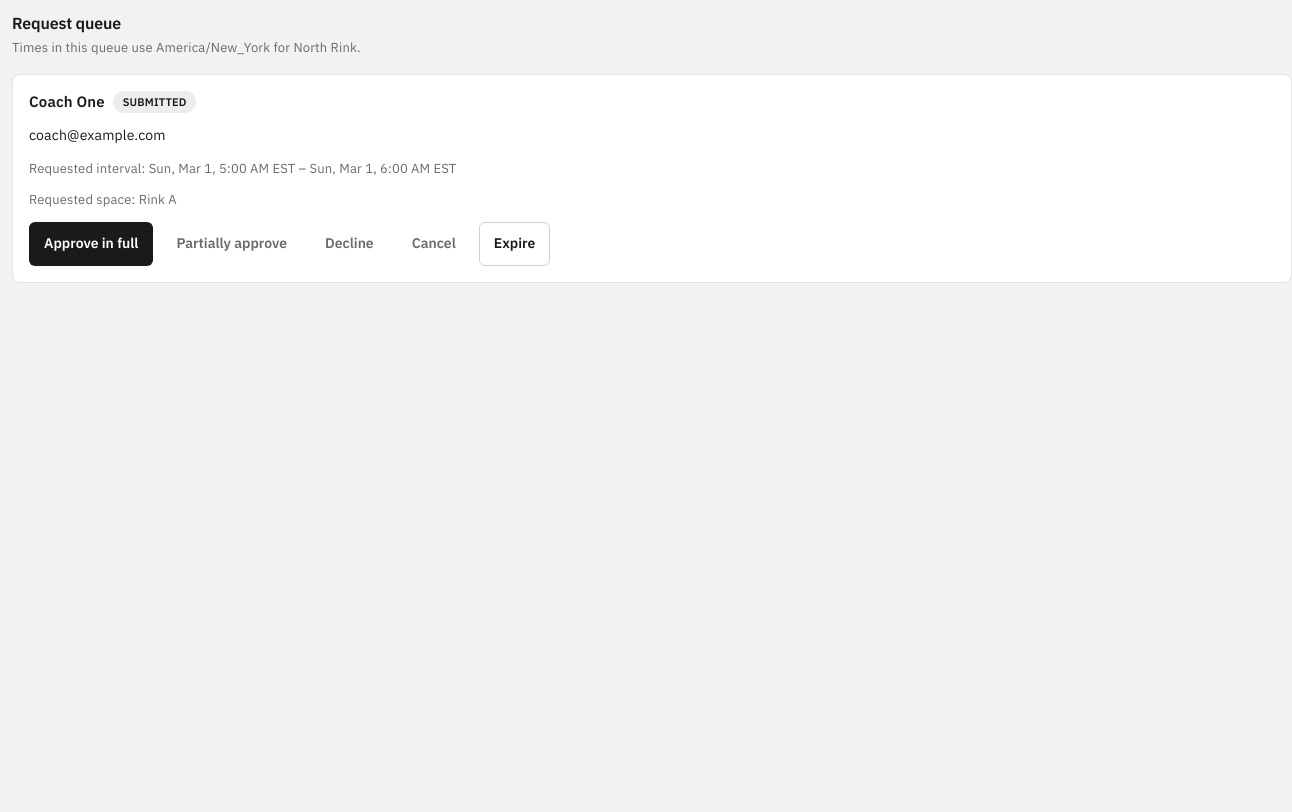
SurfaceTimeRequestQueue › allows a whole-surface request to narrow only within the same surface
Click the button "Partially approve" at point(232, 244), box left=161, top=222, right=302, bottom=266
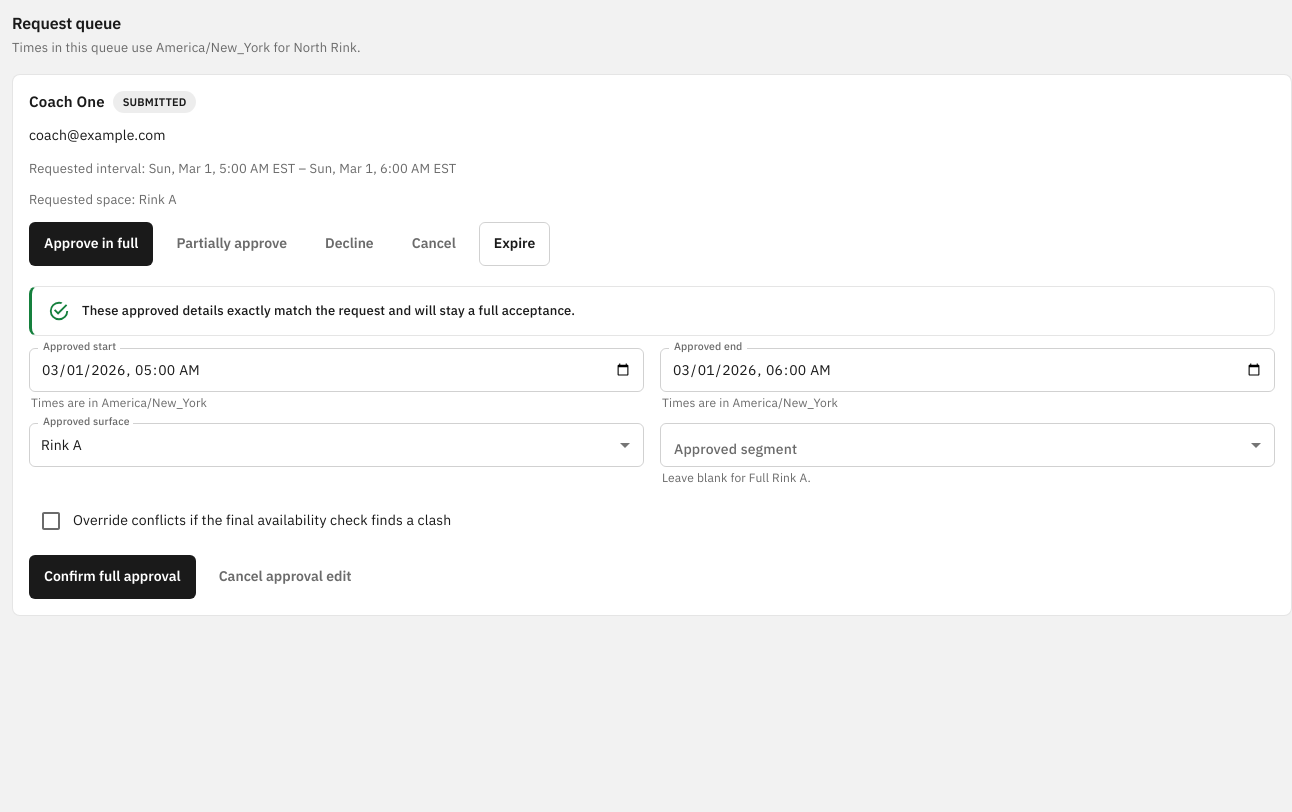
Click the dropdown named "approved surface" at point(62, 445), box left=41, top=436, right=82, bottom=454
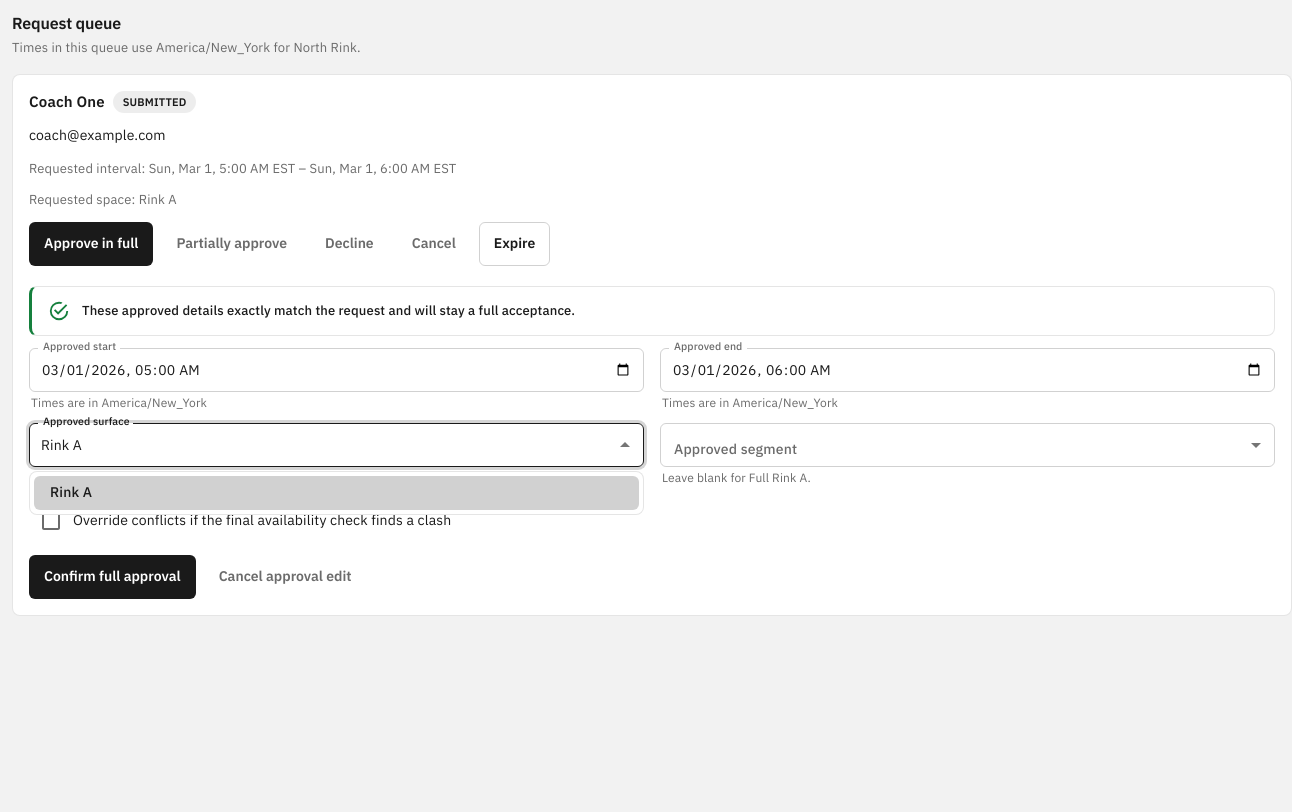
Click the option "Rink A" at point(71, 492), box left=34, top=476, right=639, bottom=510
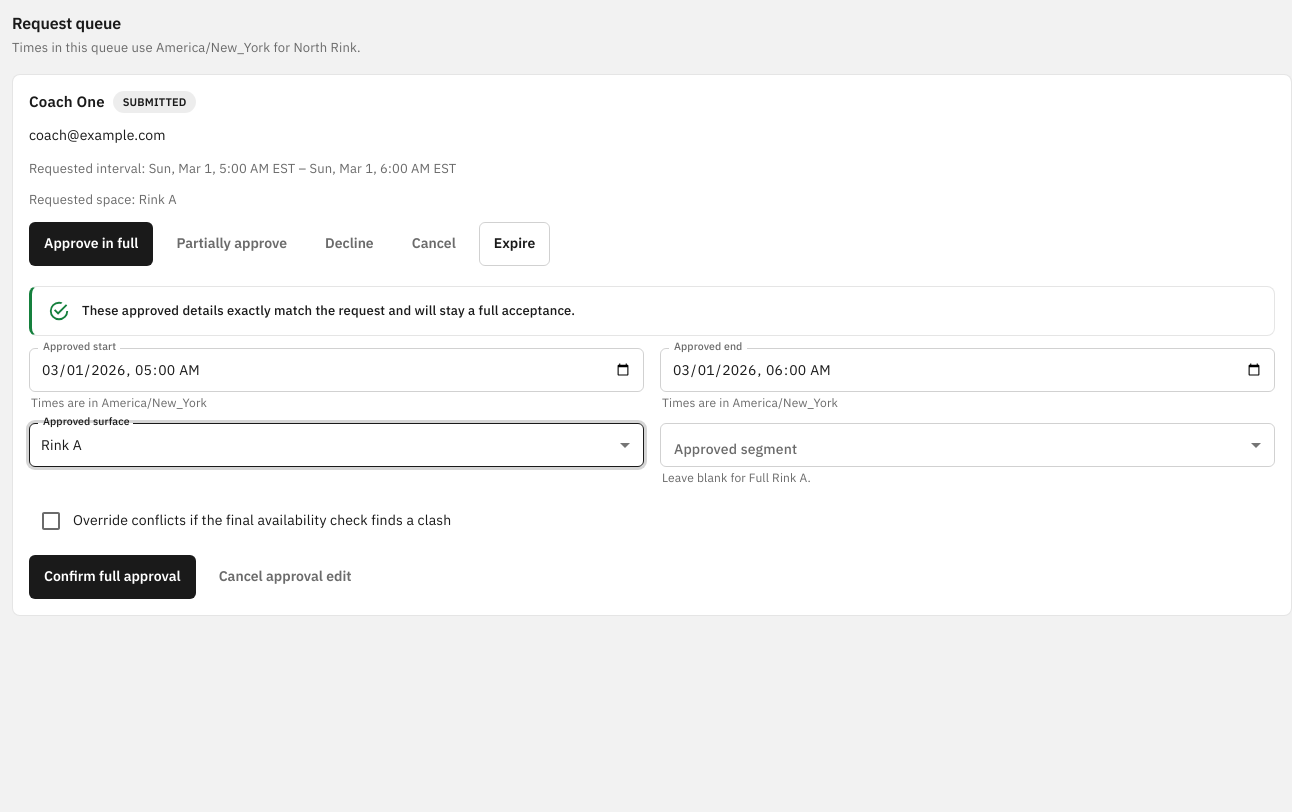
Click the dropdown named "approved segment" at point(968, 445), box left=660, top=425, right=1275, bottom=465
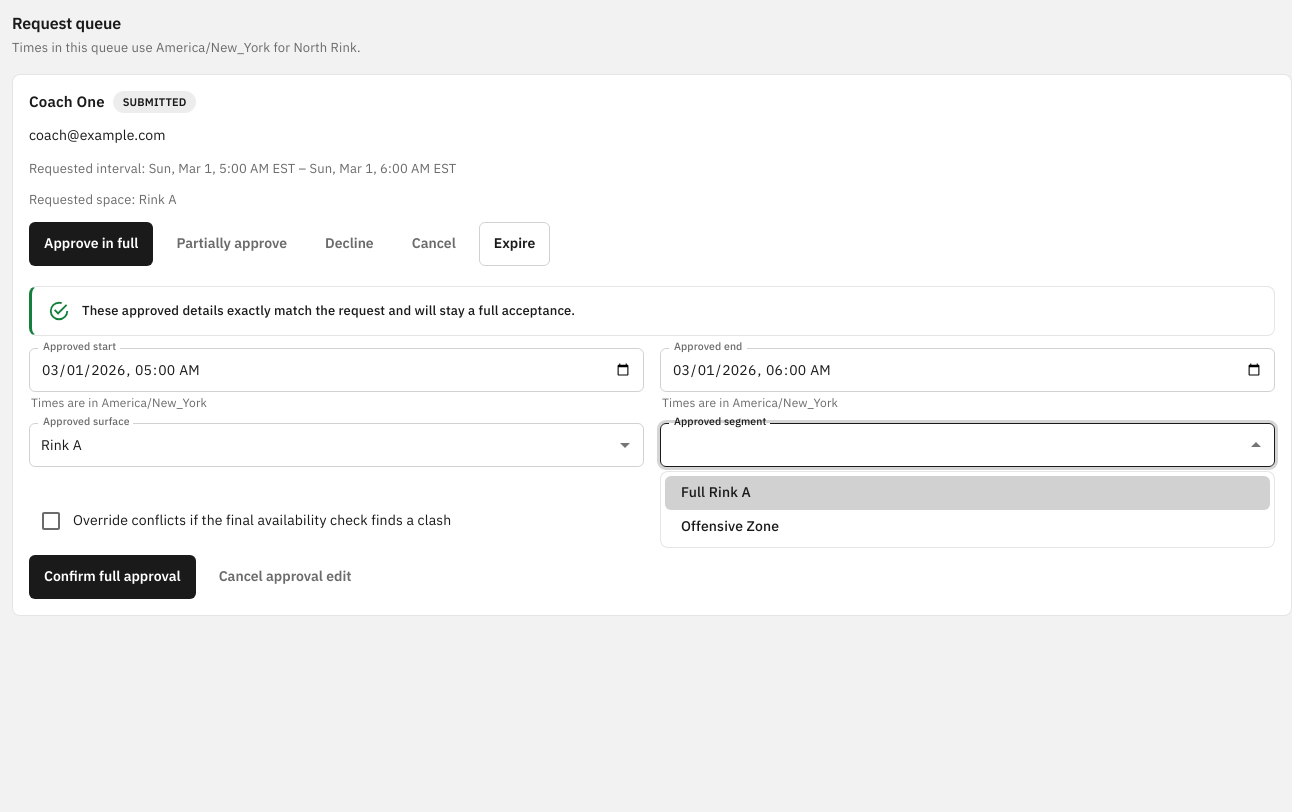
Expected: the option "Full Rink A" is shown, left=665, top=476, right=1270, bottom=510
Expected: the option "Offensive Zone" is shown, left=681, top=517, right=779, bottom=535
